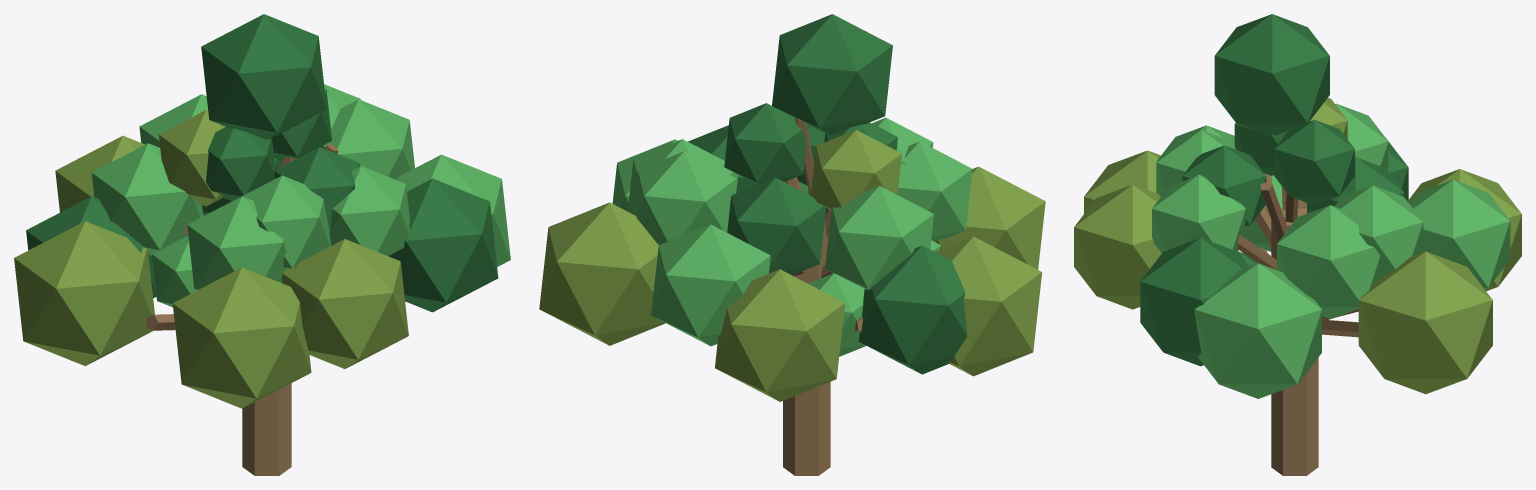
File: Tree_07.glb
3 views of the same model, side by side, from view 1: azimuth 30°, elevation 25°; view 2: azimuth 150°, elevation 25°; view 3: azimuth 270°, elevation 25° (orthographic). The views are drawn at different scales.
Parts seen in each view (by area): view 1: T07_Sphere_09, T07_Sphere_05, T07_Sphere_03, T07_Sphere_10, T07_Sphere_06, T07_Sphere_18, T07_Sphere_14, T07_Sphere_15, T07_Sphere_16, T07_Sphere_19, T07_Sphere_24, T07_Trunk (+9 smaller); view 2: T07_Sphere_07, T07_Sphere_08, T07_Sphere_03, T07_Sphere_13, T07_Sphere_09, T07_Sphere_12, T07_Sphere_18, T07_Sphere_20, T07_Sphere_17, T07_Sphere_05, T07_Sphere_22, T07_Sphere_23 (+8 smaller); view 3: T07_Sphere_07, T07_Sphere_11, T07_Sphere_03, T07_Sphere_16, T07_Sphere_10, T07_Sphere_06, T07_Sphere_12, T07_Sphere_22, T07_Sphere_15, T07_Trunk, T07_Sphere_20, T07_Sphere_21 (+12 smaller).
Part boxes in pixels (left/top/right/bottom): T07_Sphere_09: left=14, top=221, right=154, bottom=366; T07_Sphere_05: left=172, top=267, right=311, bottom=408; T07_Sphere_03: left=201, top=14, right=326, bottom=139; T07_Sphere_10: left=281, top=239, right=408, bottom=368; T07_Sphere_06: left=388, top=178, right=498, bottom=312; T07_Sphere_18: left=91, top=143, right=203, bottom=256; T07_Sphere_14: left=187, top=196, right=286, bottom=289; T07_Sphere_15: left=329, top=166, right=409, bottom=256; T07_Sphere_16: left=320, top=99, right=414, bottom=179; T07_Sphere_19: left=242, top=175, right=330, bottom=269; T07_Sphere_24: left=206, top=127, right=275, bottom=201; T07_Trunk: left=242, top=383, right=291, bottom=475; T07_Sphere_07: left=539, top=202, right=665, bottom=345; T07_Sphere_08: left=715, top=269, right=844, bottom=401; T07_Sphere_03: left=772, top=14, right=892, bottom=135; T07_Sphere_13: left=859, top=245, right=967, bottom=374; T07_Sphere_09: left=935, top=236, right=1042, bottom=376; T07_Sphere_12: left=651, top=224, right=770, bottom=346; T07_Sphere_18: left=825, top=186, right=933, bottom=289; T07_Sphere_20: left=633, top=151, right=736, bottom=244; T07_Sphere_17: left=727, top=177, right=826, bottom=275; T07_Sphere_05: left=935, top=166, right=1045, bottom=269; T07_Sphere_22: left=724, top=103, right=808, bottom=184; T07_Sphere_23: left=810, top=130, right=901, bottom=209; T07_Sphere_07: left=1358, top=251, right=1492, bottom=394; T07_Sphere_11: left=1194, top=263, right=1321, bottom=398; T07_Sphere_03: left=1214, top=14, right=1329, bottom=135; T07_Sphere_16: left=1277, top=205, right=1380, bottom=319; T07_Sphere_10: left=1074, top=184, right=1161, bottom=309; T07_Sphere_06: left=1140, top=238, right=1248, bottom=366; T07_Sphere_12: left=1409, top=179, right=1510, bottom=289; T07_Sphere_22: left=1274, top=119, right=1354, bottom=205; T07_Sphere_15: left=1152, top=174, right=1245, bottom=252; T07_Trunk: left=1271, top=208, right=1318, bottom=475; T07_Sphere_20: left=1334, top=185, right=1423, bottom=280; T07_Sphere_21: left=1182, top=145, right=1266, bottom=226.
Bounding box in the file's own units: 2.56 × 2.5 × 2.27.
